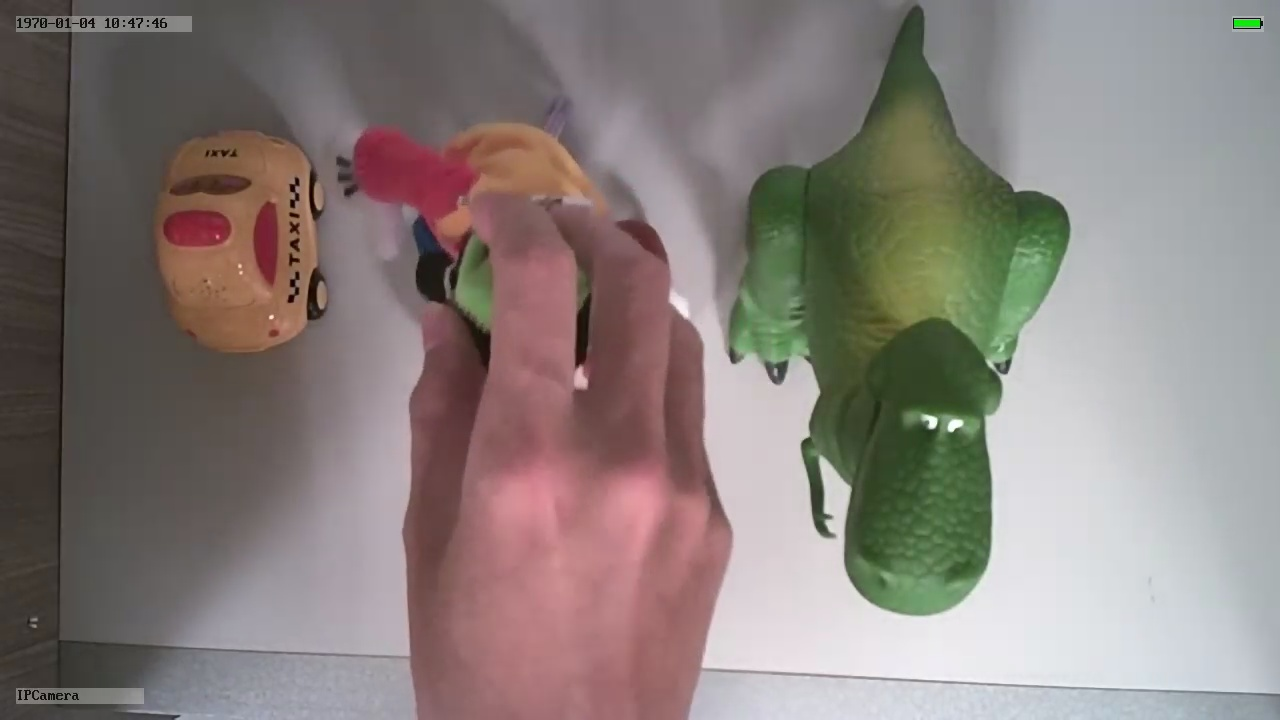car: (155, 124, 331, 358)
rex: (724, 105, 1072, 619)
